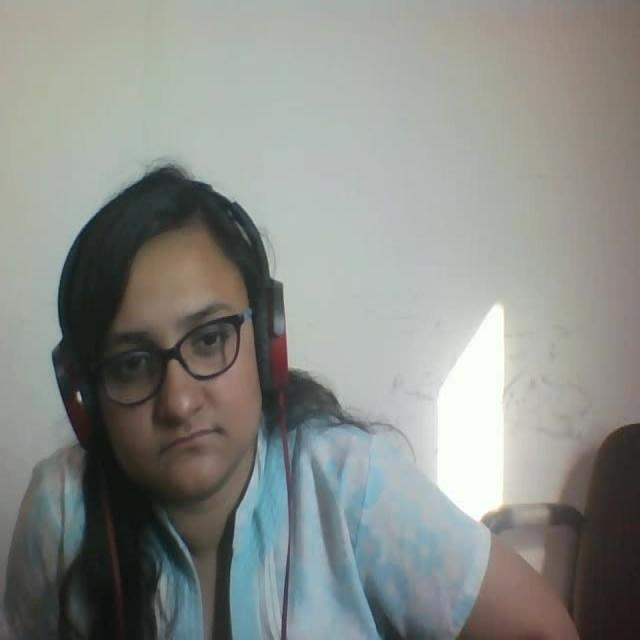Engaged: (28, 151, 310, 534)
